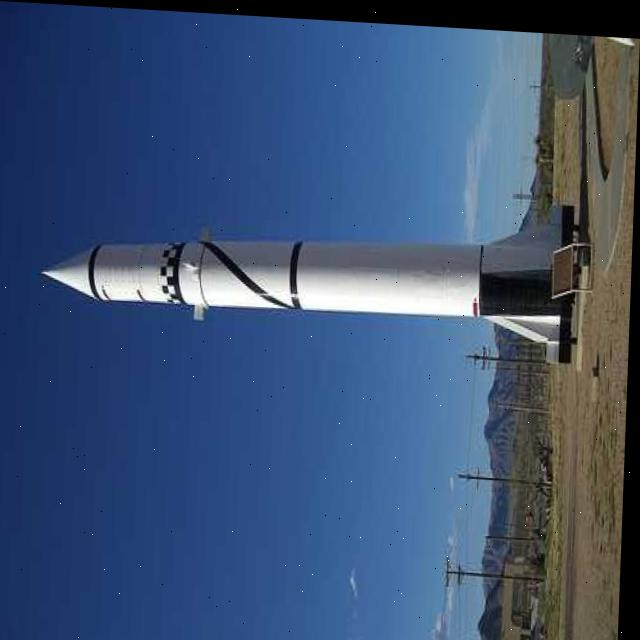missile: (37, 173, 578, 339)
